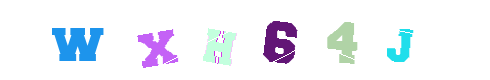4: (239, 0, 319, 80)
6: (208, 0, 288, 80)
H: (186, 0, 266, 80)
J: (303, 0, 383, 80)
W: (120, 0, 200, 80)
X: (121, 0, 201, 80)
